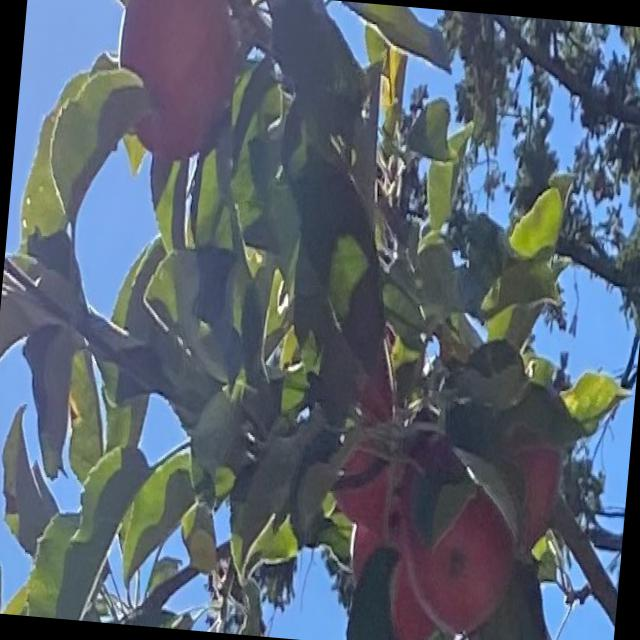Apples: (394, 436, 520, 630), (109, 0, 241, 169), (328, 378, 407, 527), (349, 489, 409, 586), (516, 431, 564, 541), (387, 555, 444, 639)
